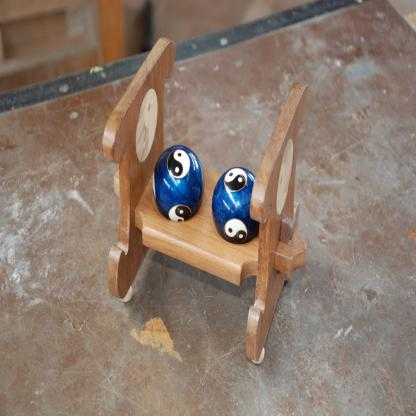Ball: (153, 145, 203, 224), (212, 167, 258, 244)
